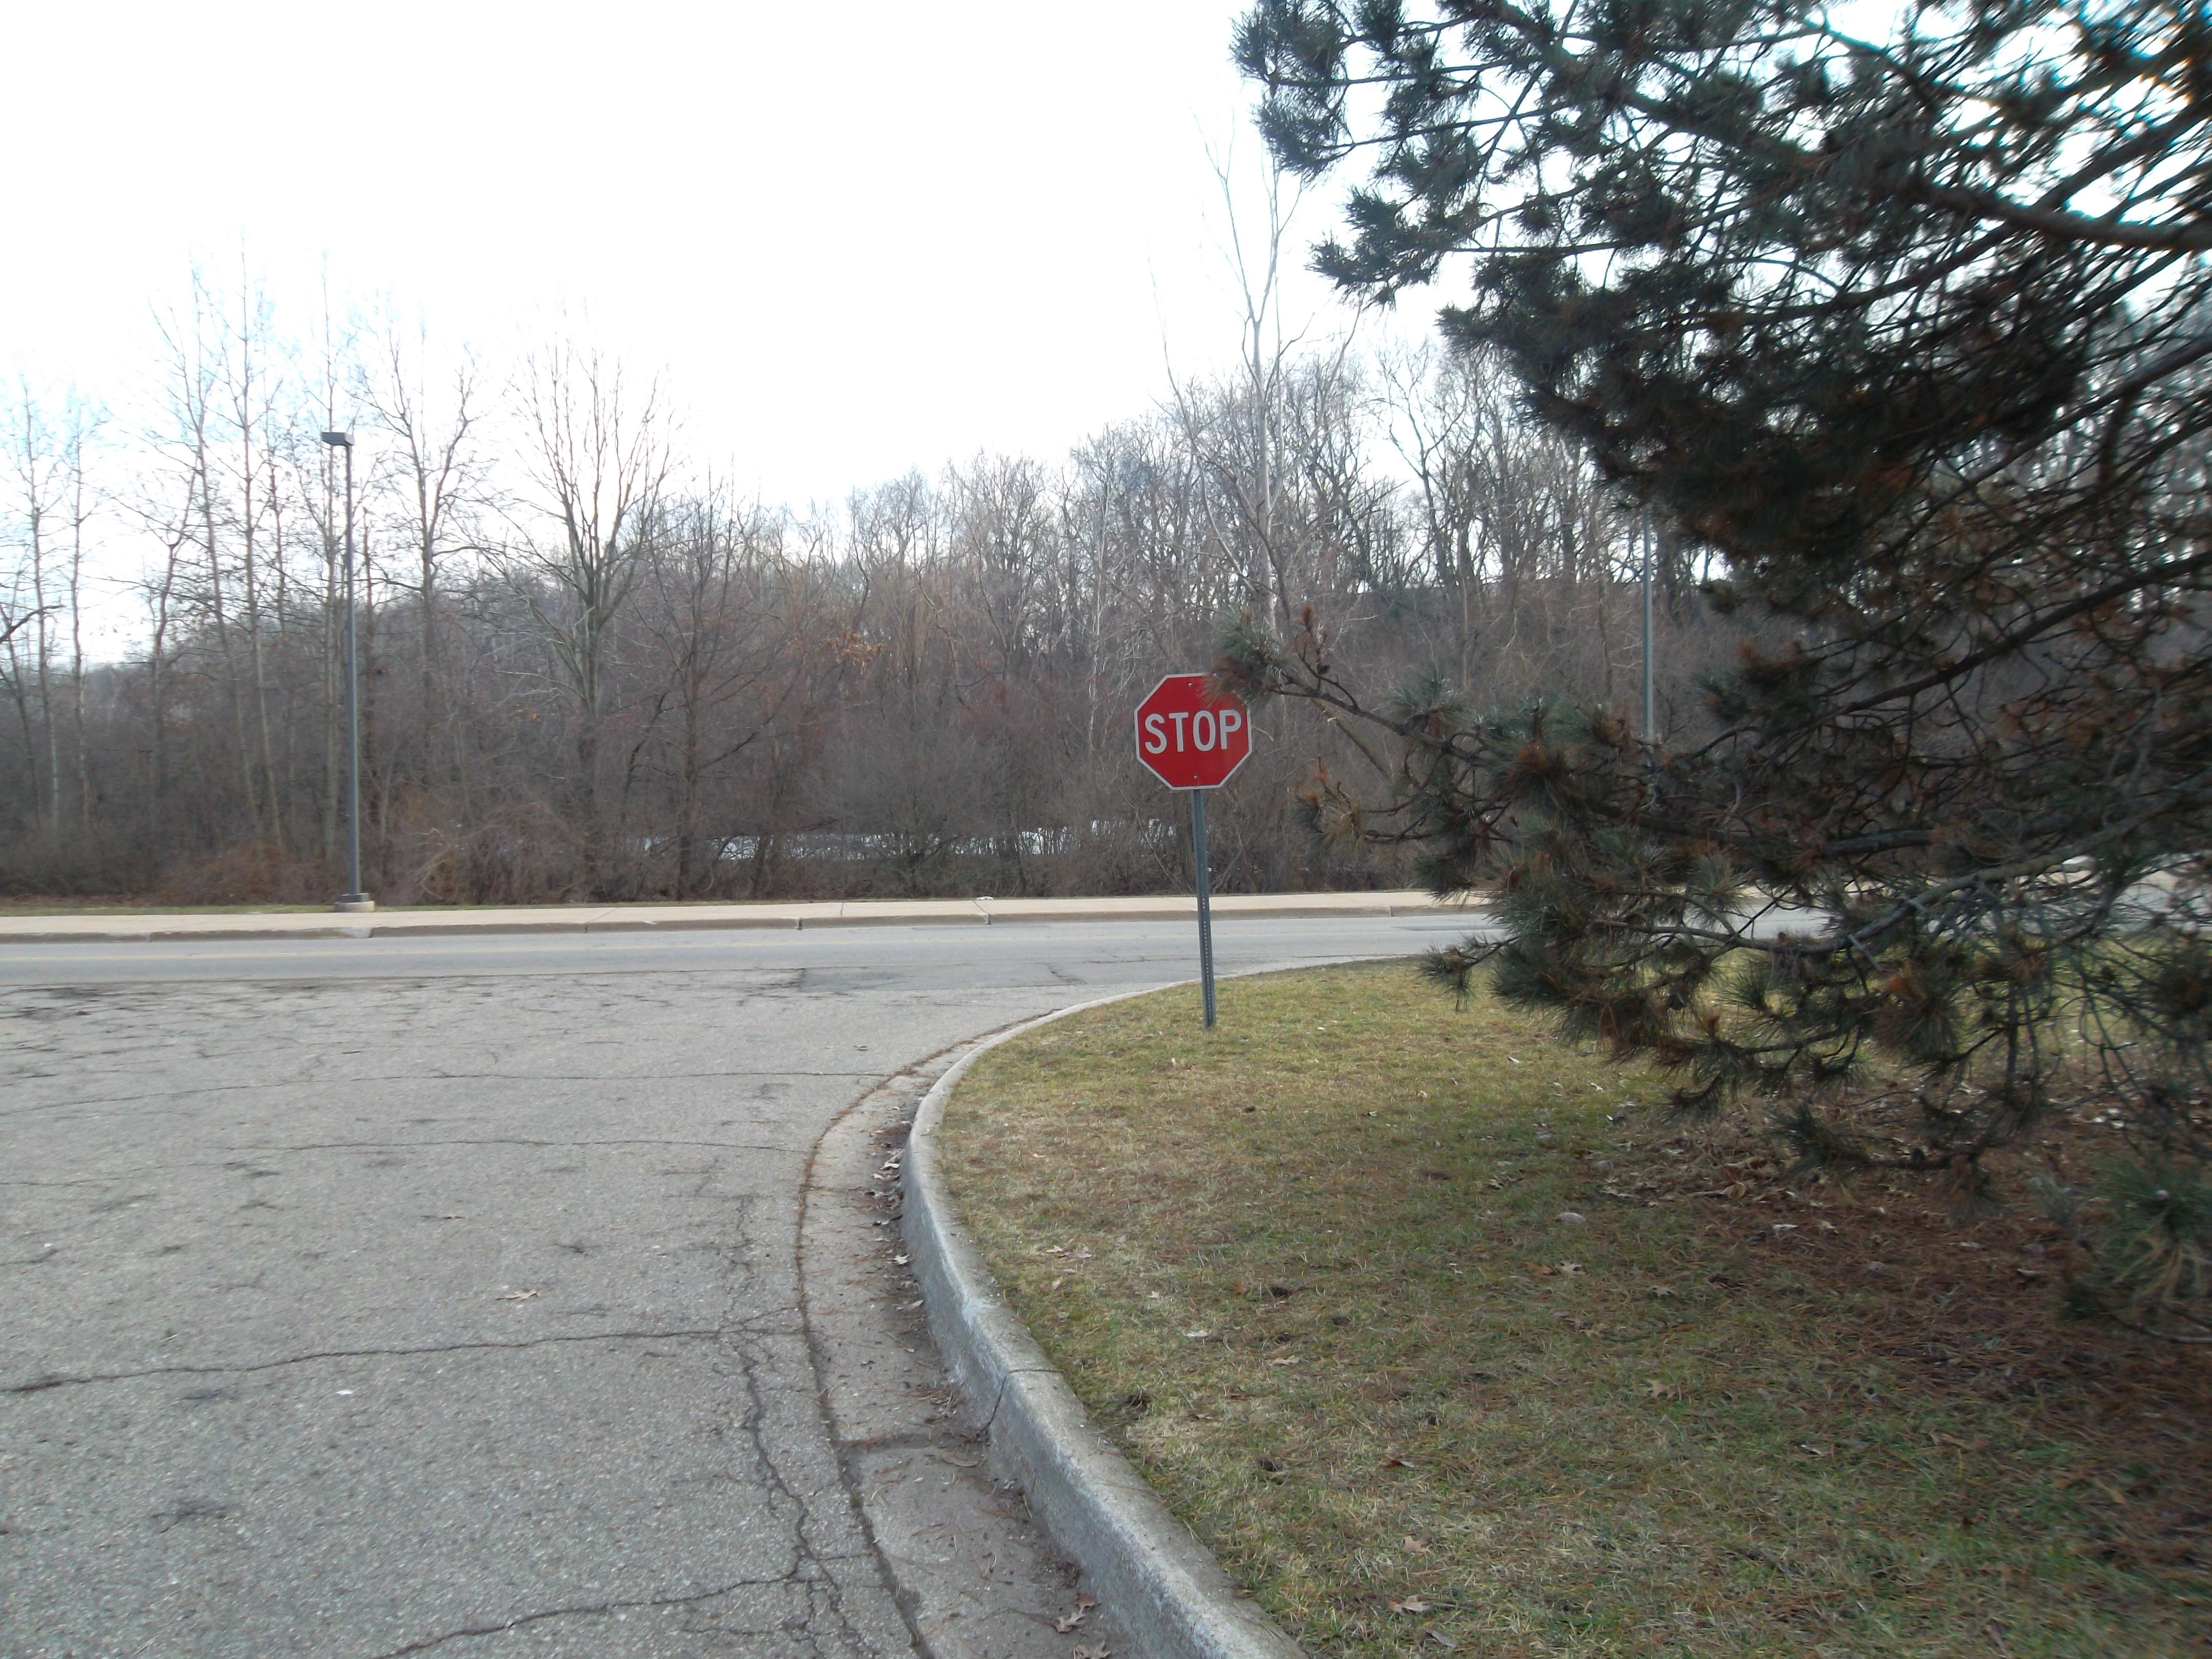stop: (1130, 671, 1251, 791)
